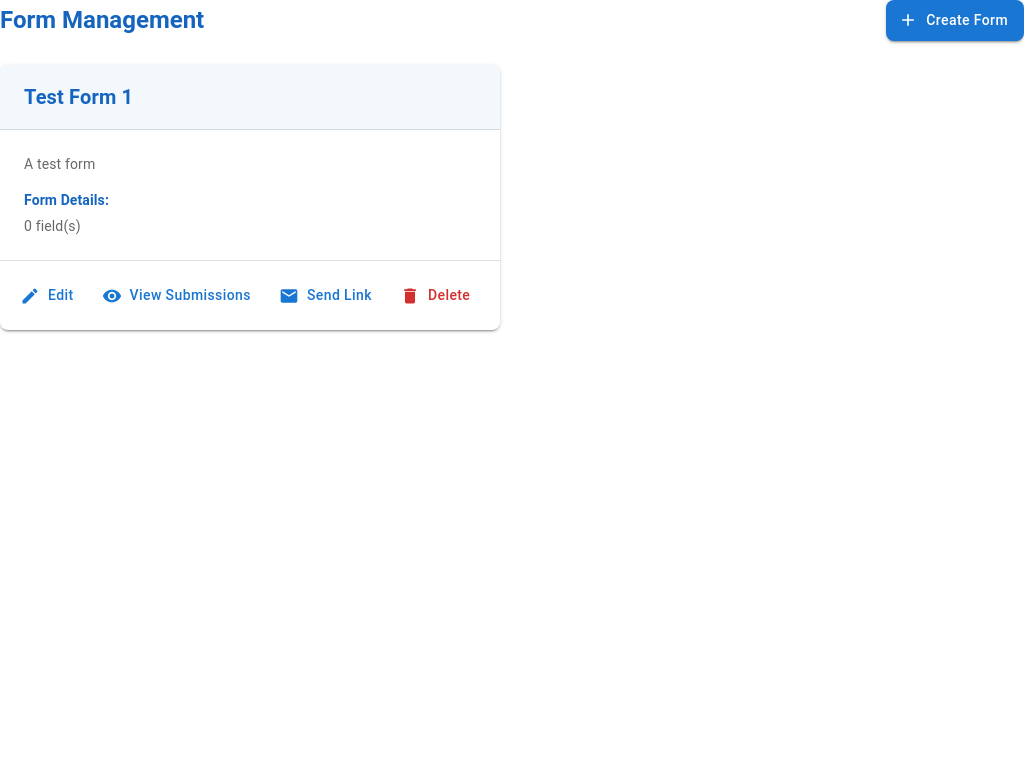
FormManagement › opens and closes the Send Form Link dialog
Expected: the heading "Test Form 1" is shown, [24,84,133,108]
// Open dialog
Click the button "Send Link": point(327, 296) [275,277,380,314]
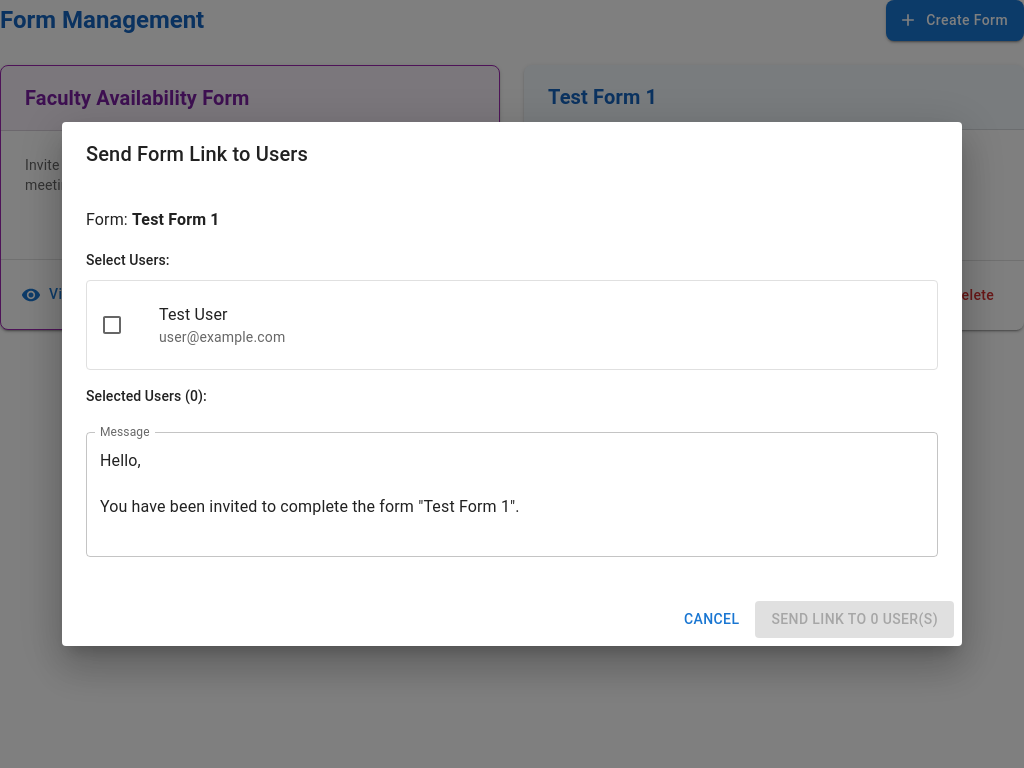
Now the heading "Send Form Link to Users" is shown, box [86,142,308,166]
// Close dialog
Click the button "Cancel": point(712, 619) [676,601,748,638]
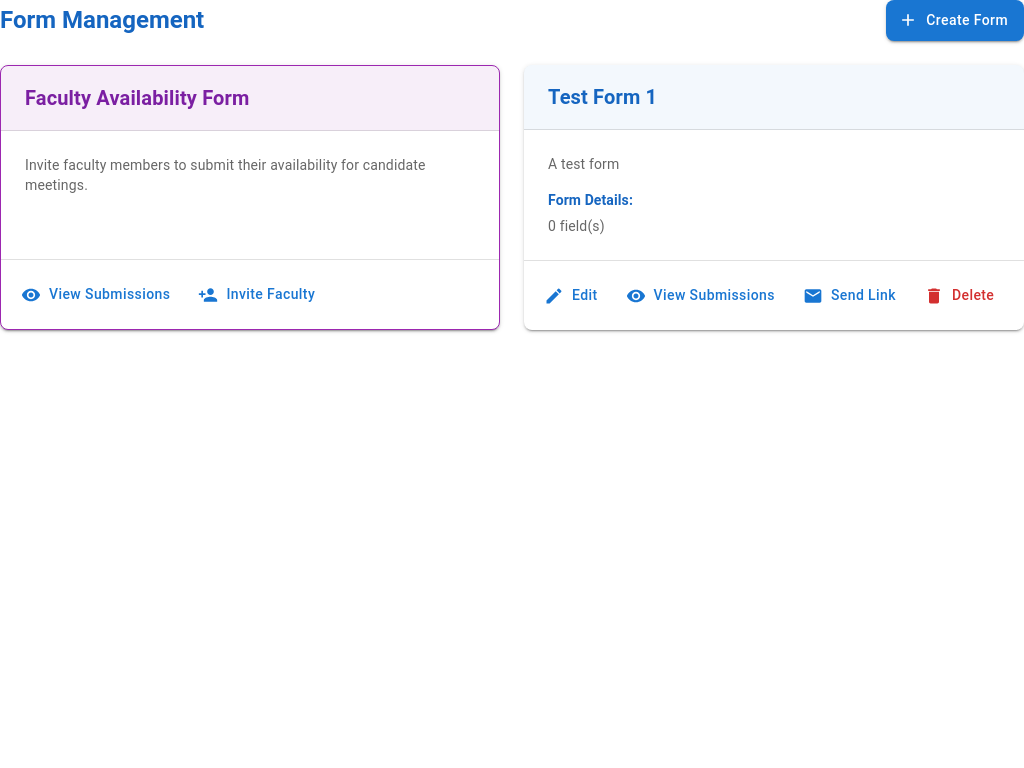
Now the heading "Send Form Link to Users" is gone
